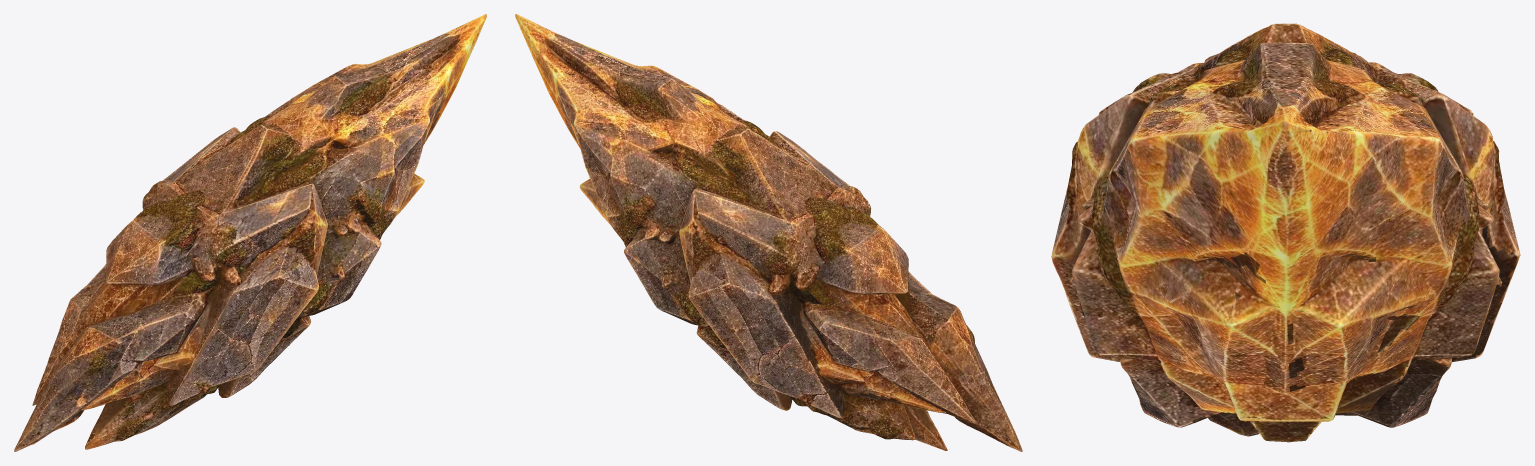
The model's file is terra.glb.
The picture shows the model from 3 angles, left to right: view 1: azimuth 30°, elevation 25°; view 2: azimuth 150°, elevation 25°; view 3: azimuth 270°, elevation 25°; orthographic projection. The views are drawn at different scales.
Visible parts, largest first — view 1: tripo_node_b6ac955f-9b20-477e-b2f5-522bb8f7e646; view 2: tripo_node_b6ac955f-9b20-477e-b2f5-522bb8f7e646; view 3: tripo_node_b6ac955f-9b20-477e-b2f5-522bb8f7e646.
Boxes of the visible parts, box(x1,y1,x2,y2) form: tripo_node_b6ac955f-9b20-477e-b2f5-522bb8f7e646: box(14, 14, 486, 451); tripo_node_b6ac955f-9b20-477e-b2f5-522bb8f7e646: box(515, 14, 1022, 451); tripo_node_b6ac955f-9b20-477e-b2f5-522bb8f7e646: box(1051, 23, 1520, 442).
Size of the model in its own units: 0.9747 by 0.6377 by 0.411.
Materials: 1 (1 with a texture image).
